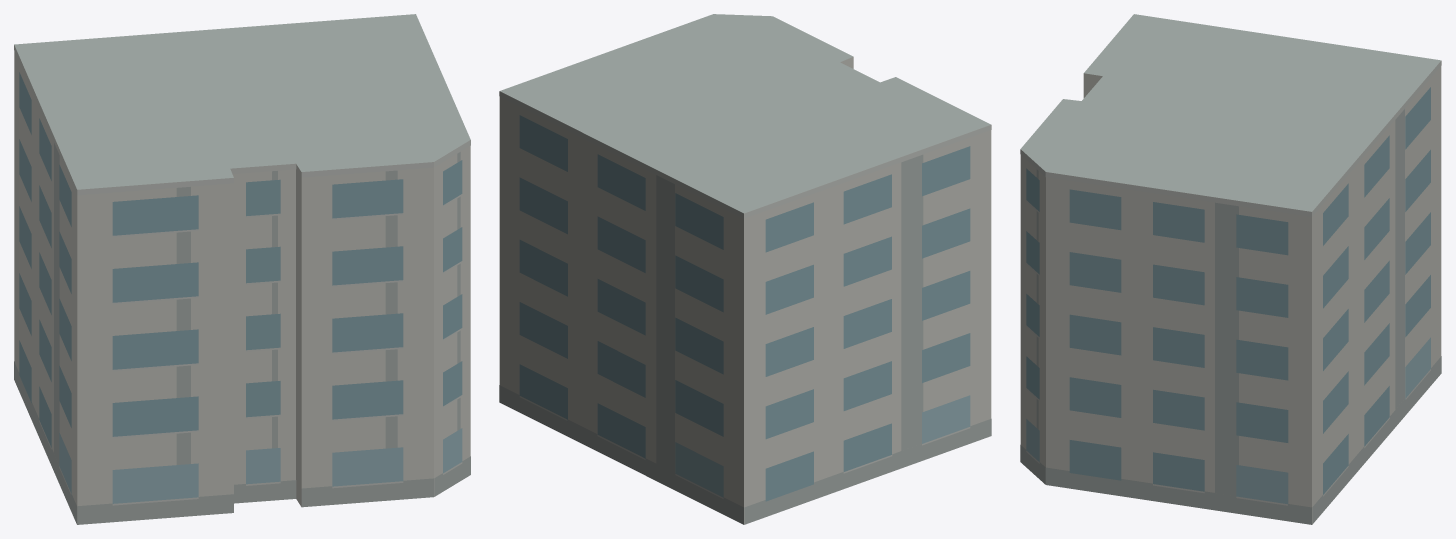
The model's file is survey-upis-32884276.glb.
3 renders of one model, left to right at view 1: azimuth 30°, elevation 25°; view 2: azimuth 150°, elevation 25°; view 3: azimuth 270°, elevation 25°, orthographic. The views are drawn at different scales.
Parts seen in each view (by area): view 1: survey-upis-32884276.tmp; view 2: survey-upis-32884276.tmp; view 3: survey-upis-32884276.tmp.
Boxes of the visible parts, x1,y1,x2,y2 form: survey-upis-32884276.tmp: (14,14,470,524); survey-upis-32884276.tmp: (499,14,991,524); survey-upis-32884276.tmp: (1020,14,1441,524).
Size of the model in its own units: 19.33 by 14.25 by 17.38.
